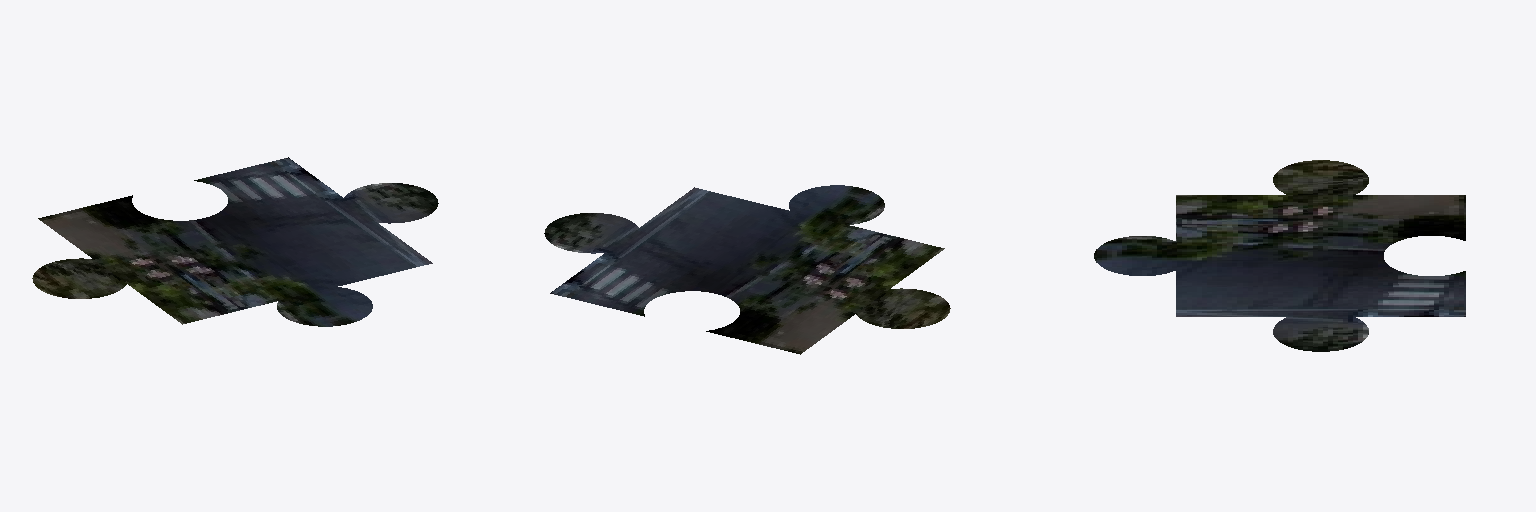
The picture shows the model from 3 angles: view 1: azimuth 30°, elevation 25°; view 2: azimuth 150°, elevation 25°; view 3: azimuth 270°, elevation 25°; orthographic projection.
Visible parts, largest first — view 1: ͼ��089; view 2: ͼ��089; view 3: ͼ��089.
Boxes of the visible parts, <box> form: ͼ��089: <box>32,157,438,326</box>; ͼ��089: <box>544,185,950,354</box>; ͼ��089: <box>1094,160,1465,351</box>.
Size of the model in its own units: 47.01 by 0 by 38.5.
Materials: 1 (1 with a texture image).